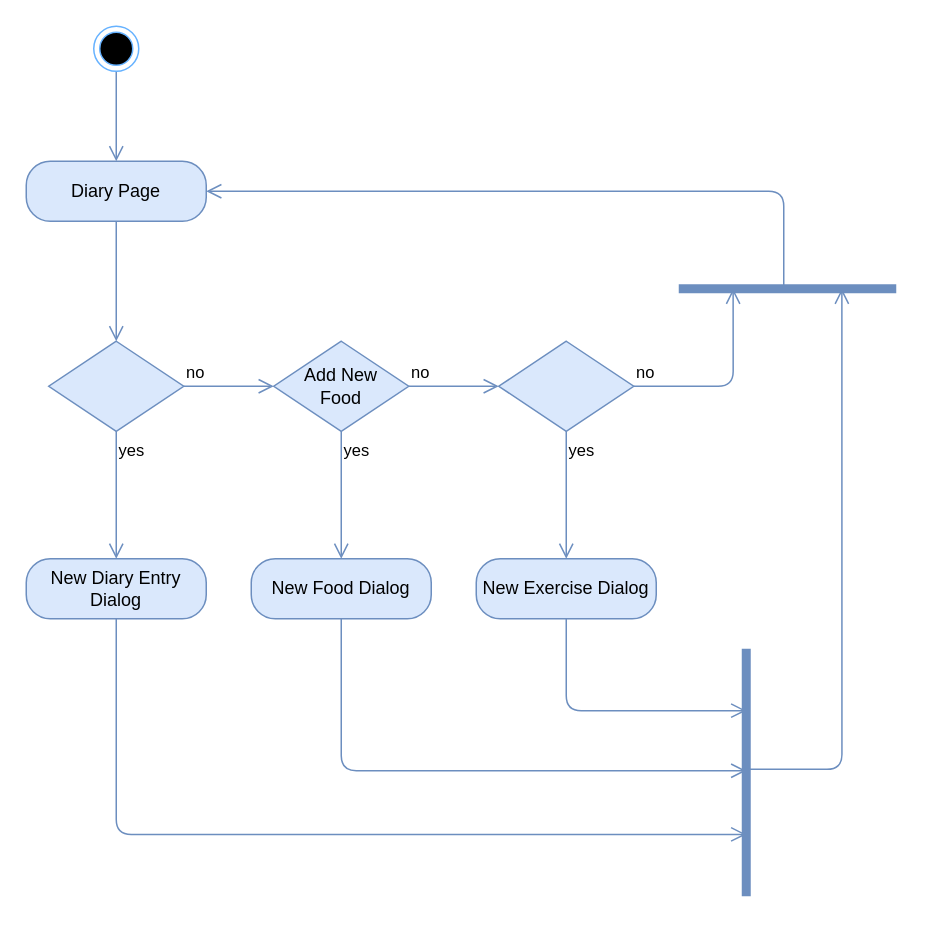
This 927x927 diagram has some shape labels left out. The shapes that lost their labels are listed below. From the top down, each one's centre as x and y in pixels, then its label:
At point (115, 385): "Add Diary Entry".
At point (565, 385): "Add New Exercise".
